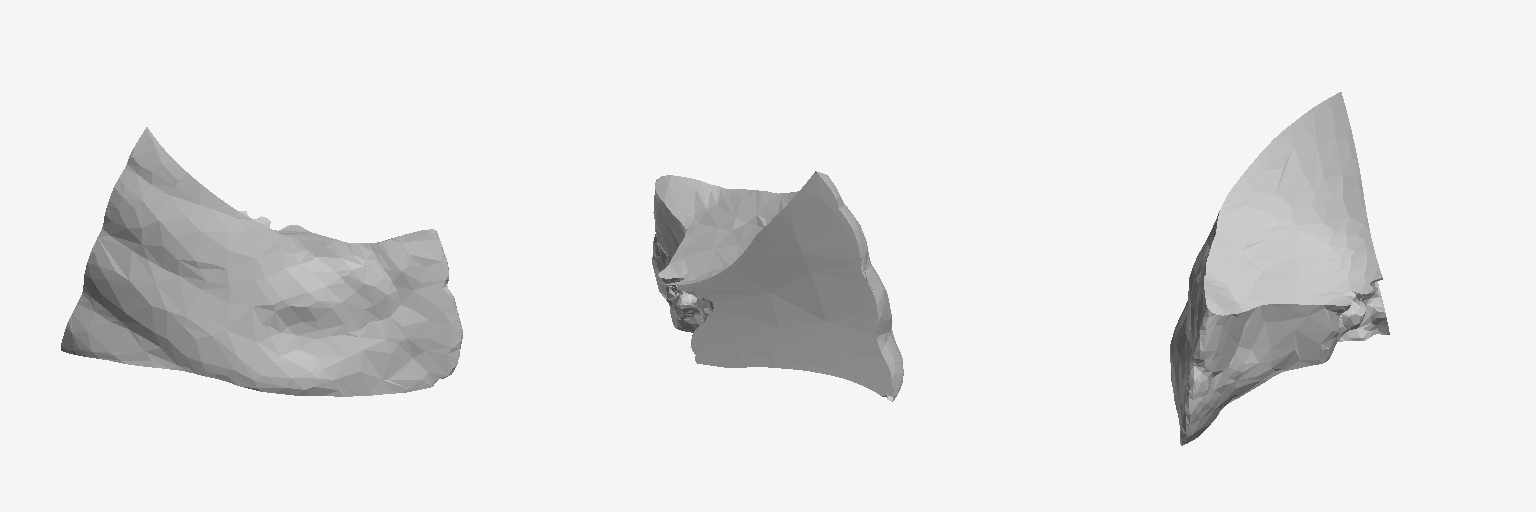
The picture shows the model from 3 angles: view 1: azimuth 30°, elevation 25°; view 2: azimuth 150°, elevation 25°; view 3: azimuth 270°, elevation 25°; orthographic projection.
Parts seen in each view (by area): view 1: Polygonal_Model_1_Triangles_0; view 2: Polygonal_Model_1_Triangles_0; view 3: Polygonal_Model_1_Triangles_0.
Part boxes in pixels (x1,y1,x2,y2): Polygonal_Model_1_Triangles_0: (61, 127, 462, 396); Polygonal_Model_1_Triangles_0: (652, 171, 903, 401); Polygonal_Model_1_Triangles_0: (1170, 92, 1389, 445).
Bounding box in the file's own units: 5.6 × 4.22 × 3.34.